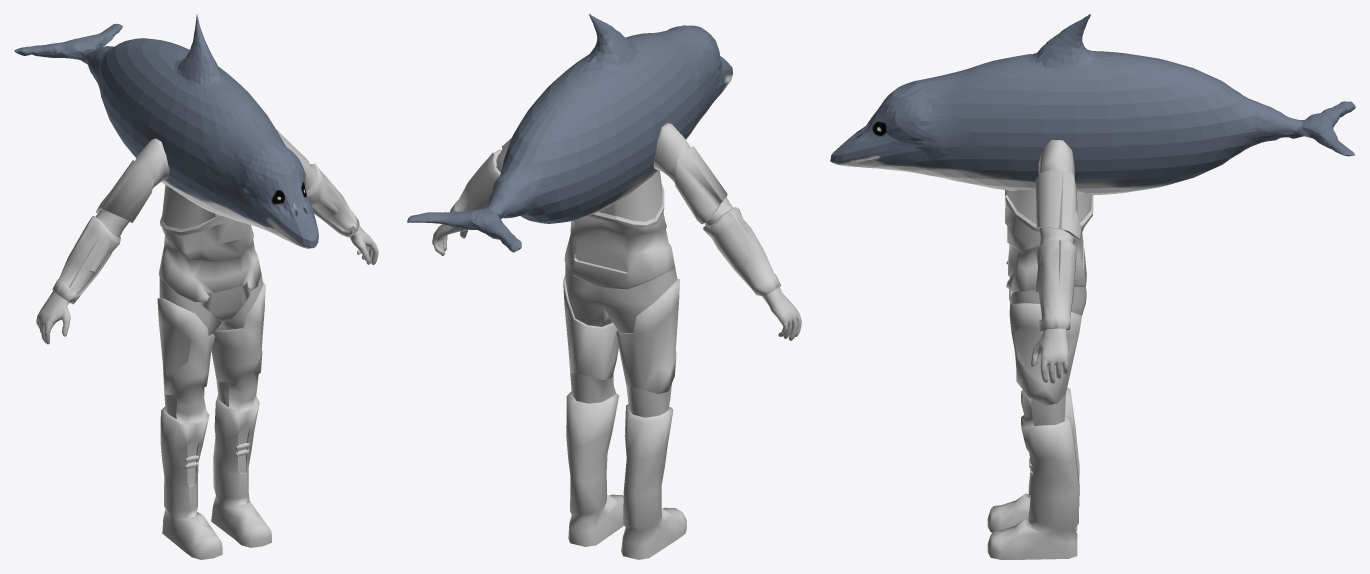
Rendered from Otrogordonfreeman.fbx.
The picture shows the model from 3 angles, left to right: view 1: azimuth 30°, elevation 25°; view 2: azimuth 150°, elevation 25°; view 3: azimuth 270°, elevation 25°; orthographic projection. The views are drawn at different scales.
Parts seen in each view (by area): view 1: gordon, Sphere; view 2: gordon, Sphere; view 3: Sphere, gordon.
Part boxes in pixels (left/top/right/bottom): gordon: left=36, top=129, right=378, bottom=559; Sphere: left=14, top=14, right=318, bottom=248; gordon: left=432, top=122, right=801, bottom=559; Sphere: left=407, top=14, right=733, bottom=252; Sphere: left=830, top=14, right=1355, bottom=195; gordon: left=987, top=140, right=1093, bottom=559.
Size of the model in its own units: 5273 by 7564 by 6801.
